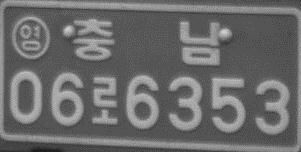0: (8, 68, 43, 124)
3: (254, 79, 290, 136), (168, 75, 203, 132)
5: (210, 75, 246, 134)
6: (49, 71, 85, 128), (125, 73, 159, 130)
로: (91, 75, 119, 125)
영: (11, 15, 50, 60)
충남_D: (73, 18, 222, 66)
